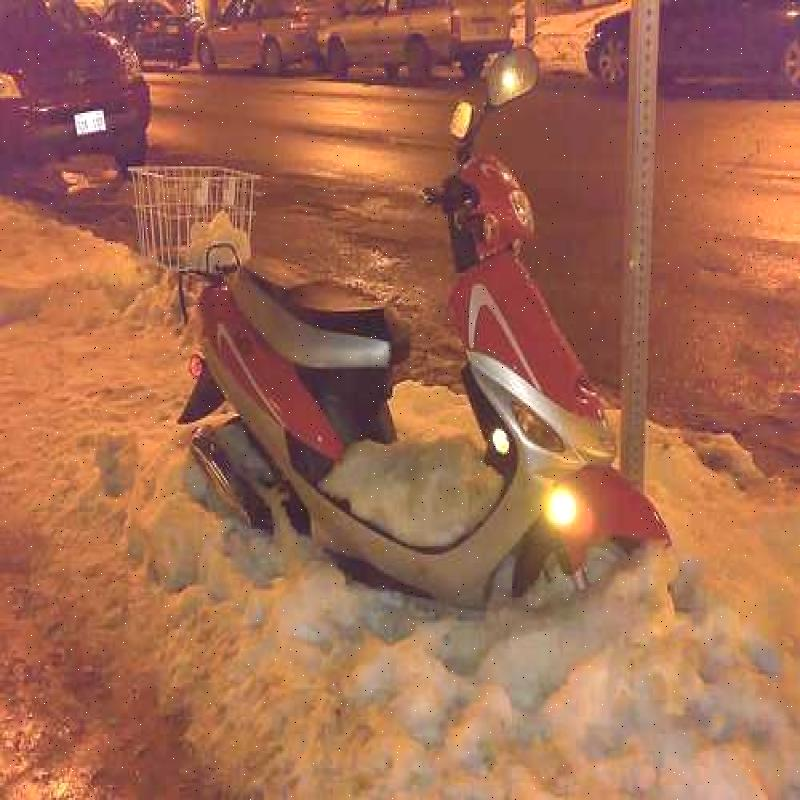bike: (147, 45, 679, 653)
